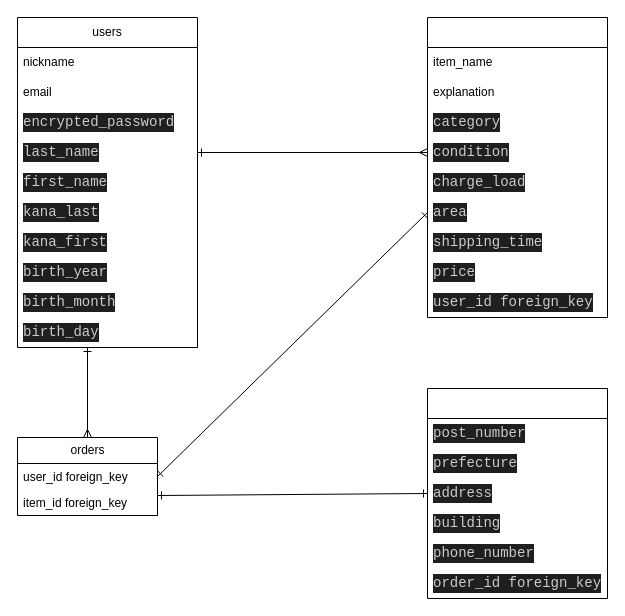
Image size: 625x616. Some labels were removed from this diagram. The box of each missing label's shape, as (x1, y1, x2, y2) in pixels:
deliverys: (426, 388, 608, 598)
items: (426, 16, 608, 318)
